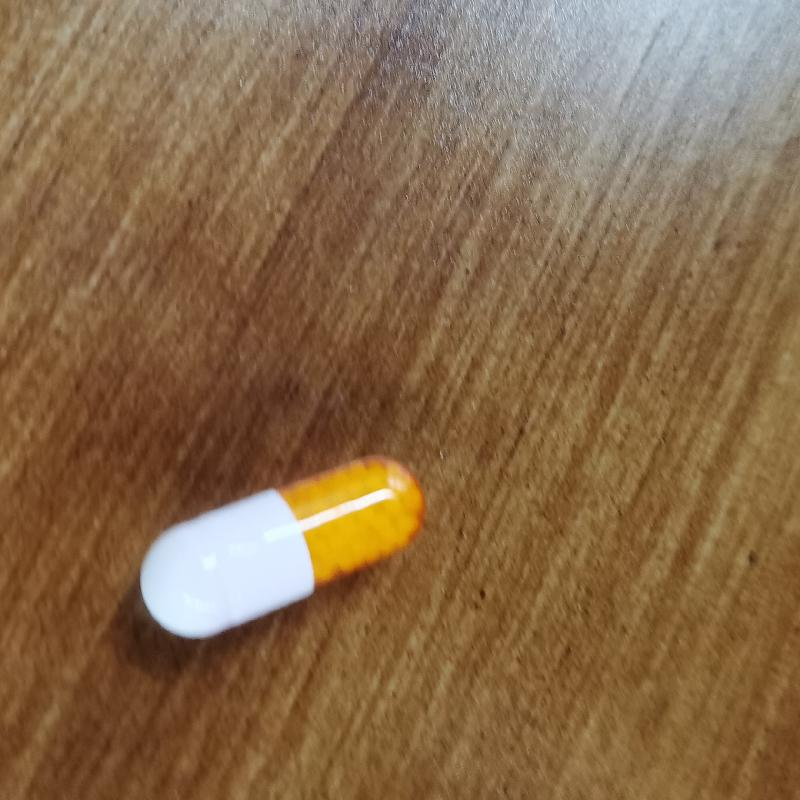pills: (129, 447, 444, 649)
